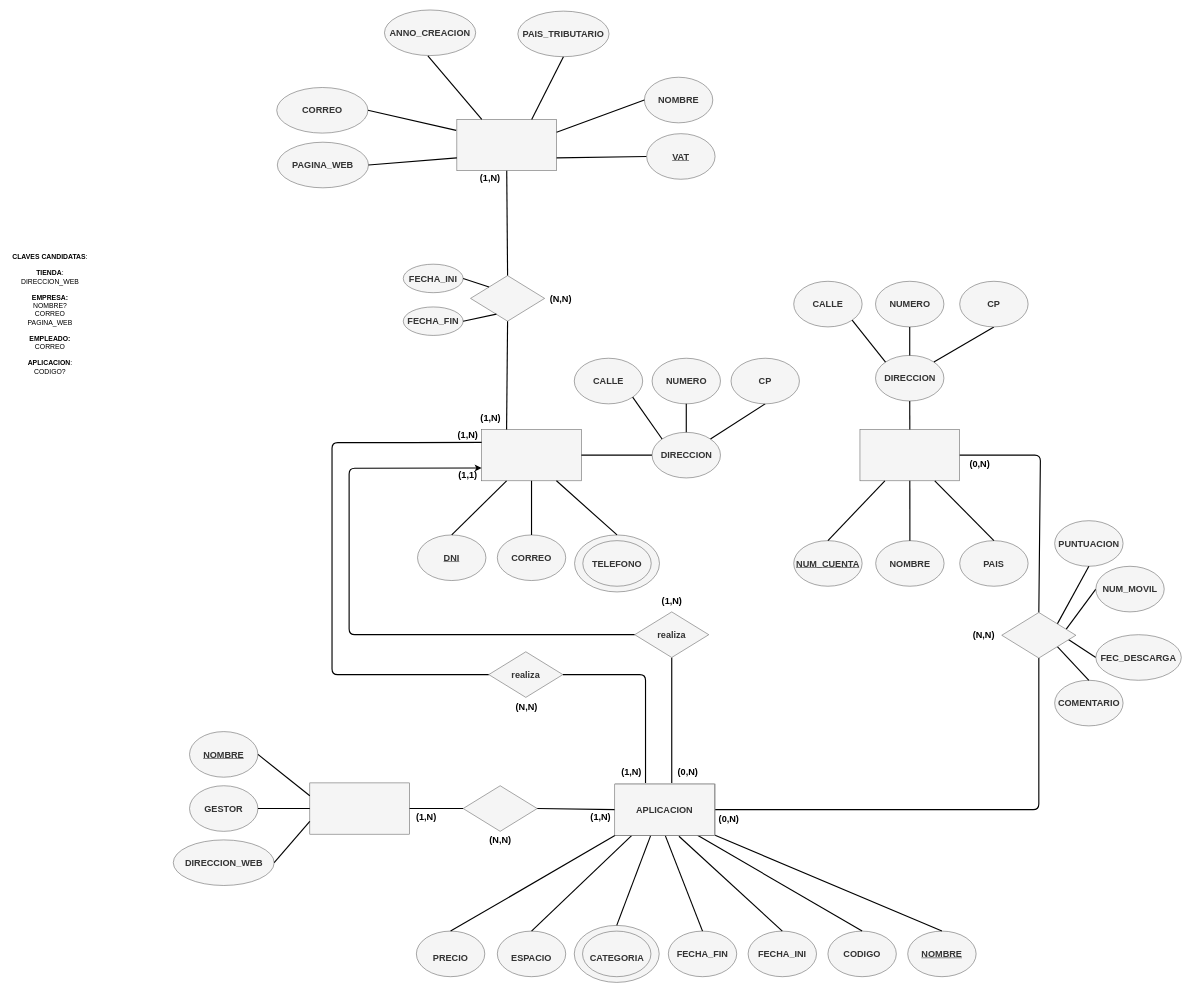
Image size: 1191x992. Some labels were removed from this diagram. Each missing label, with the centre of its shape:
contiene: point 500,808
descarga: point 1038,635
EMPLEADO: point 531,455
EMPRESA: point 506,145
TIENDA: point 359,808
trabaja: point 507,298
USUARIO: point 909,455
